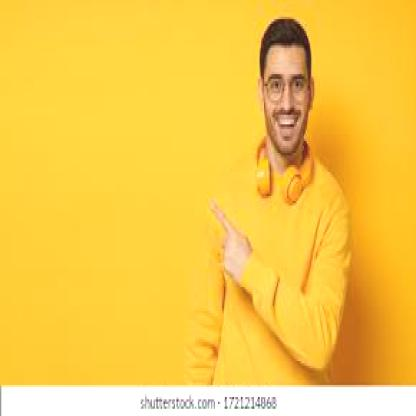Right: (205, 192, 263, 284)
